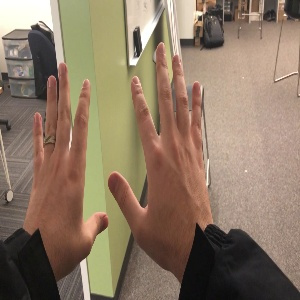hand: (108, 41, 213, 248), (24, 64, 109, 257)
